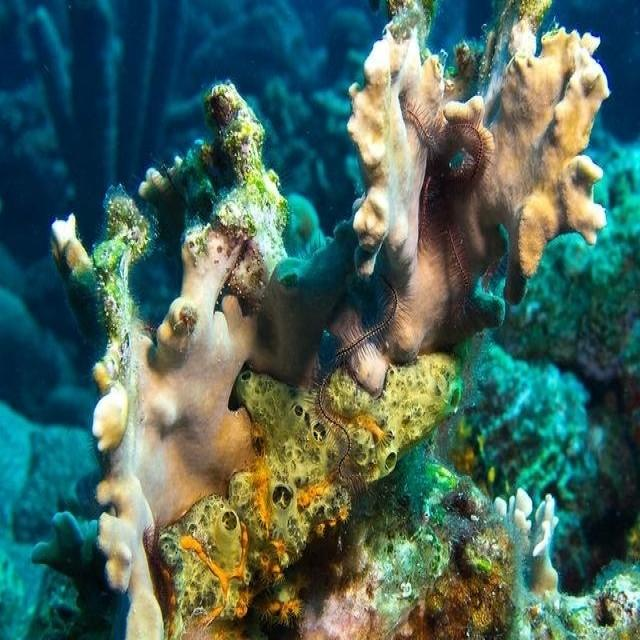reefs: (50, 0, 610, 639), (157, 356, 457, 639), (292, 432, 639, 639)
